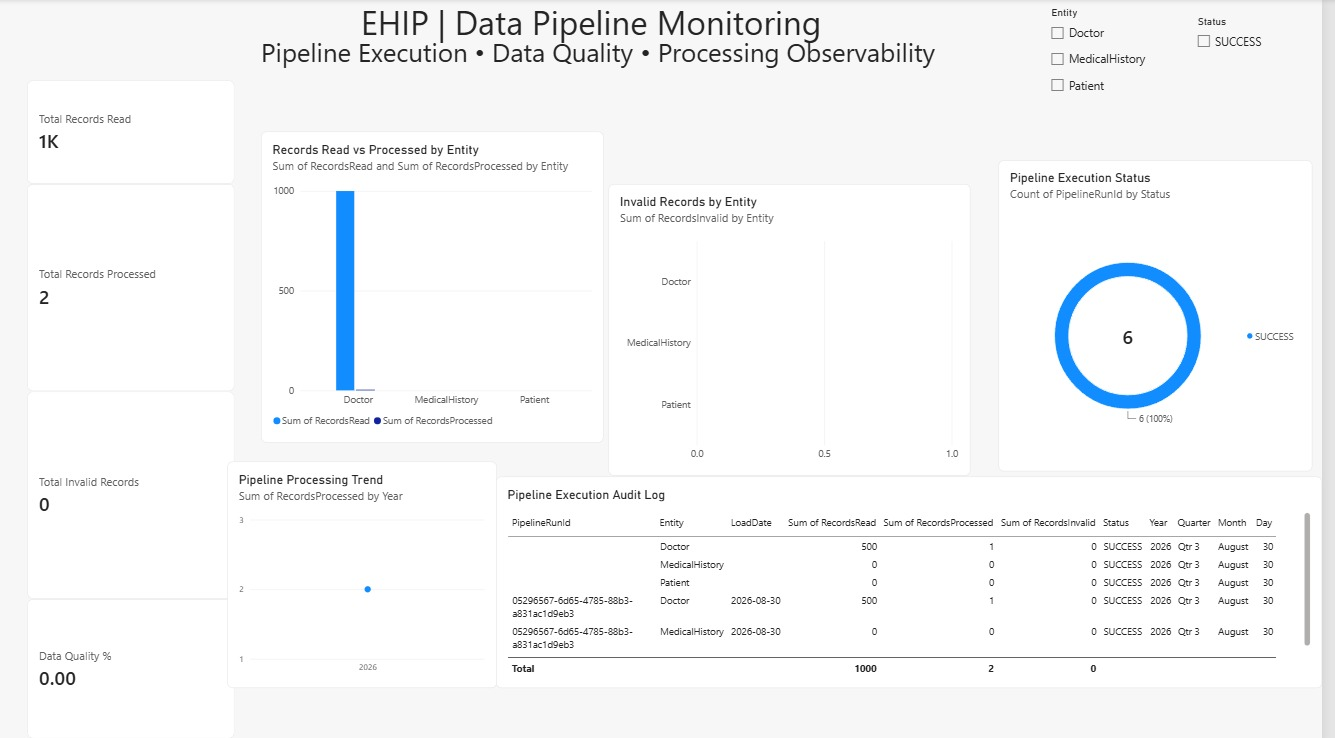

The page's visual inventory and layout, read from the dashboard file:
{"tool":"powerbi","page":{"name":"Data Pipeline Monitoring","canvas":[1920,1080],"ordinal":3},"visuals":[{"type":"textbox","box":[528,0,738,84],"z":0},{"type":"textbox","box":[384,50,1026,68],"z":1},{"type":"cardVisual","fields":{"Data":["_Measures.Total Records Processed"]},"box":[46,268,300,300],"z":2},{"type":"cardVisual","fields":{"Data":["_Measures.Total Invalid Records"]},"box":[46,568,300,300],"z":3},{"type":"cardVisual","fields":{"Data":["_Measures.Data Quality %"]},"box":[18,868,300,202],"z":4},{"type":"cardVisual","fields":{"Data":["_Measures.Total Records Read"]},"box":[18,84,300,150],"z":5},{"type":"clusteredColumnChart","title":"Records Read vs Processed by Entity","fields":{"Category":["Pipeline Audit.Entity"],"Y":["Sum(Pipeline Audit.RecordsRead)","Sum(Pipeline Audit.RecordsProcessed)"]},"box":[384,192,496,450],"z":6},{"type":"clusteredBarChart","title":"Invalid Records by Entity","fields":{"Category":["Pipeline Audit.Entity"],"Y":["Sum(Pipeline Audit.RecordsInvalid)"]},"box":[886,268,524,422],"z":7},{"type":"lineChart","title":"Pipeline Processing Trend","fields":{"Category":["Pipeline Audit.ProcessedAt.Variation.Date Hierarchy.Year","Pipeline Audit.ProcessedAt.Variation.Date Hierarchy.Quarter","Pipeline Audit.ProcessedAt.Variation.Date Hierarchy.Month","Pipeline Audit.ProcessedAt.Variation.Date Hierarchy.Day"],"Y":["Sum(Pipeline Audit.RecordsProcessed)"]},"box":[334,670,390,328],"z":8},{"type":"donutChart","title":"Pipeline Execution Status","fields":{"Category":["Pipeline Audit.Status"],"Y":["CountNonNull(Pipeline Audit.PipelineRunId)"]},"box":[1452,234,454,450],"z":9},{"type":"tableEx","title":"Pipeline Execution Audit Log","fields":{"Values":["Pipeline Audit.PipelineRunId","Pipeline Audit.Entity","Pipeline Audit.LoadDate","Sum(Pipeline Audit.RecordsRead)","Sum(Pipeline Audit.RecordsProcessed)","Sum(Pipeline Audit.RecordsInvalid)","Pipeline Audit.Status","Pipeline Audit.ProcessedAt.Variation.Date Hierarchy.Year","Pipeline Audit.ProcessedAt.Variation.Date Hierarchy.Quarter","Pipeline Audit.ProcessedAt.Variation.Date Hierarchy.Month","Pipeline Audit.ProcessedAt.Variation.Date Hierarchy.Day"]},"box":[724,692,1196,306],"z":10},{"type":"slicer","fields":{"Values":["Pipeline Audit.Entity"]},"box":[1520,10,196,150],"z":11},{"type":"slicer","fields":{"Values":["Pipeline Audit.Status"]},"box":[1732,24,174,94],"z":12}]}

Visuals, with their boxes in screenshot pixels (x1, y1, x2, y2), scaled from the page's 1920x1080 canvas onto the 1335x738 screenshot:
textbox: {"left": 367, "top": 0, "right": 880, "bottom": 57}
textbox: {"left": 267, "top": 34, "right": 980, "bottom": 81}
cardVisual - _Measures.Total Records Processed: {"left": 32, "top": 183, "right": 241, "bottom": 388}
cardVisual - _Measures.Total Invalid Records: {"left": 32, "top": 388, "right": 241, "bottom": 593}
cardVisual - _Measures.Data Quality %: {"left": 13, "top": 593, "right": 221, "bottom": 731}
cardVisual - _Measures.Total Records Read: {"left": 13, "top": 57, "right": 221, "bottom": 160}
"Records Read vs Processed by Entity" clusteredColumnChart: {"left": 267, "top": 131, "right": 612, "bottom": 439}
"Invalid Records by Entity" clusteredBarChart: {"left": 616, "top": 183, "right": 980, "bottom": 472}
"Pipeline Processing Trend" lineChart: {"left": 232, "top": 458, "right": 503, "bottom": 682}
"Pipeline Execution Status" donutChart: {"left": 1010, "top": 160, "right": 1325, "bottom": 467}
"Pipeline Execution Audit Log" tableEx: {"left": 503, "top": 473, "right": 1334, "bottom": 682}
slicer - Pipeline Audit.Entity: {"left": 1057, "top": 7, "right": 1193, "bottom": 109}
slicer - Pipeline Audit.Status: {"left": 1204, "top": 16, "right": 1325, "bottom": 81}
